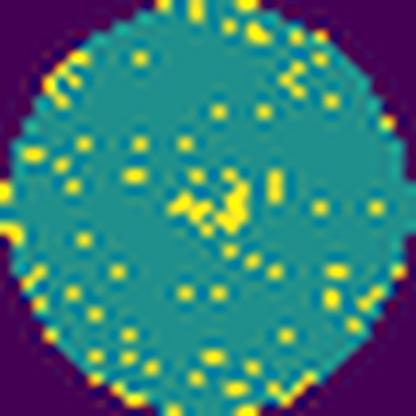Center: (170, 170, 253, 241)
